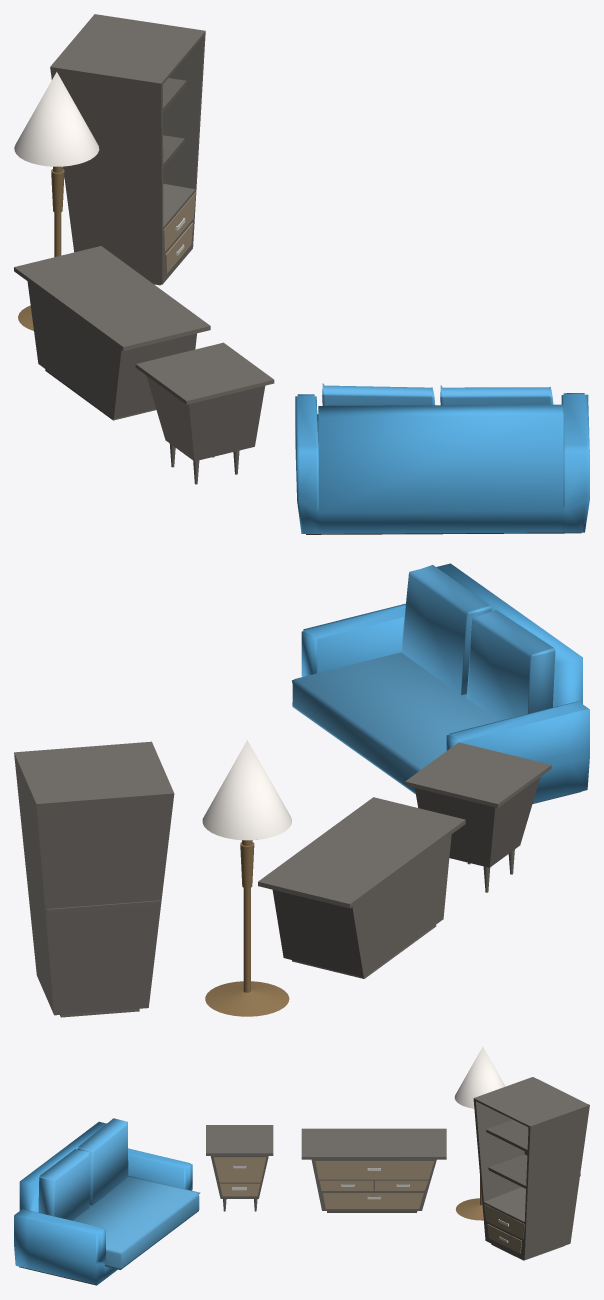
Rendered from cartoon_furniture.glb.
The picture shows the model from 3 angles, top to bottom: view 1: azimuth 30°, elevation 25°; view 2: azimuth 150°, elevation 25°; view 3: azimuth 270°, elevation 25°; orthographic projection. The views are drawn at different scales.
Parts seen in each view (by area): view 1: Object_3, Object_2; view 2: Object_3, Object_2; view 3: Object_3, Object_2.
Boxes of the visible parts, x1=… form: Object_3: x1=14, y1=14, x2=581, y2=534; Object_2: x1=295, y1=393, x2=589, y2=533; Object_3: x1=14, y1=565, x2=580, y2=1017; Object_2: x1=301, y1=563, x2=589, y2=803; Object_3: x1=19, y1=1046, x2=589, y2=1285; Object_2: x1=14, y1=1121, x2=192, y2=1284.
Bounding box in the file's own units: 2.5 × 1.92 × 5.9.
Materials: 2 (2 with a texture image).
